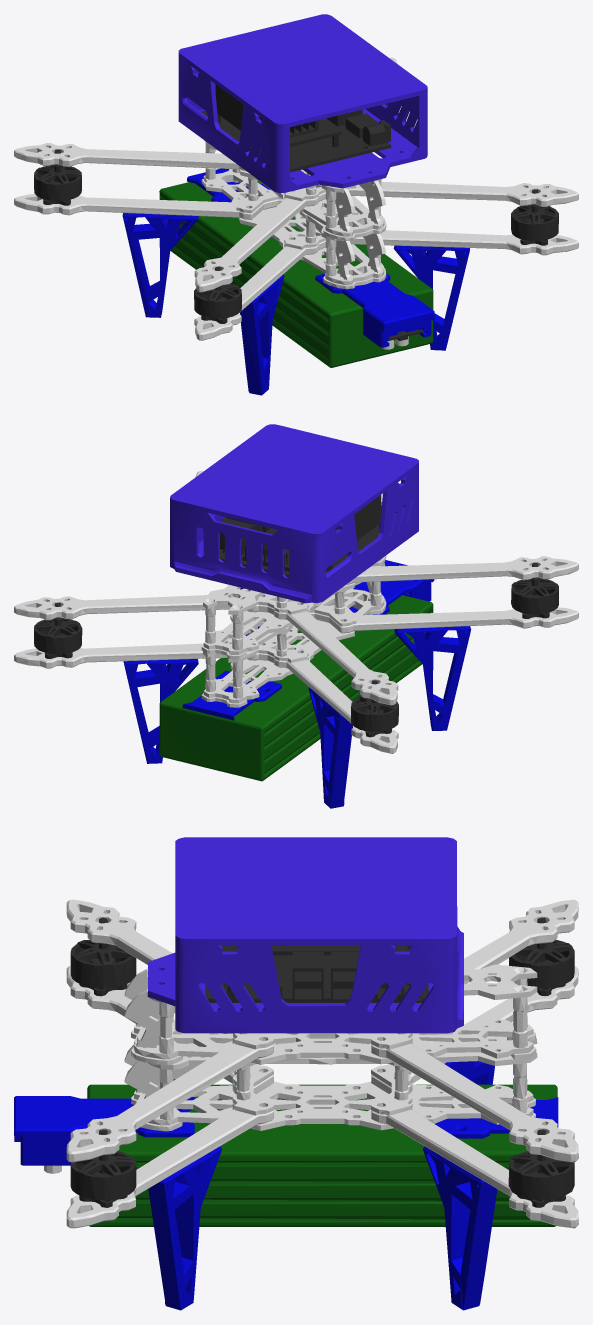
The model's file is CoisaRuim.dae.
3 views of the same model, one above another, from view 1: azimuth 30°, elevation 25°; view 2: azimuth 150°, elevation 25°; view 3: azimuth 270°, elevation 25° (orthographic). The views are drawn at different scales.
Parts seen in each view (by area): view 1: drone; view 2: drone; view 3: drone.
Boxes of the visible parts, x1=… form: drone: x1=14, y1=14, x2=578, y2=395; drone: x1=14, y1=424, x2=578, y2=808; drone: x1=14, y1=837, x2=578, y2=1310.
Bounding box in the file's own units: 0.2659 × 0.2498 × 0.1753.
